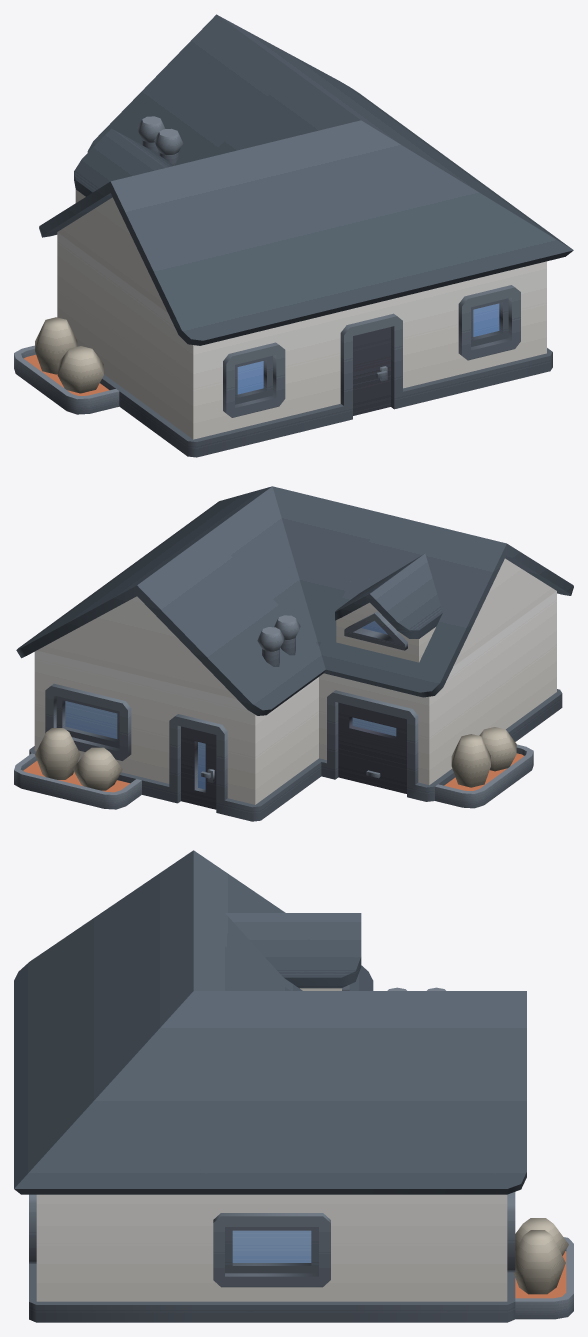
Rendered from sub-building-type-m.glb.
3 renders of one model, top to bottom at view 1: azimuth 30°, elevation 25°; view 2: azimuth 150°, elevation 25°; view 3: azimuth 270°, elevation 25°, orthographic. The views are drawn at different scales.
Parts seen in each view (by area): view 1: building-type-m; view 2: building-type-m; view 3: building-type-m.
Part boxes in pixels (x1,y1,x2,y2): building-type-m: (14,14,573,457); building-type-m: (14,486,573,821); building-type-m: (14,850,573,1322).
Bounding box in the file's own units: 1.43 × 0.7375 × 1.43.
Materials: 1 (1 with a texture image).
